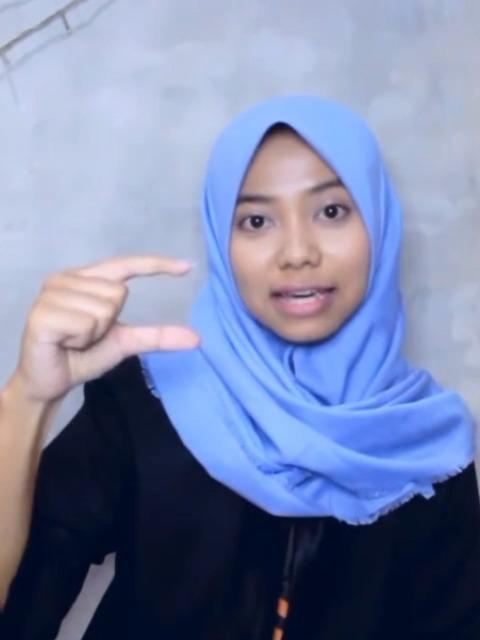G: (18, 252, 206, 388)
